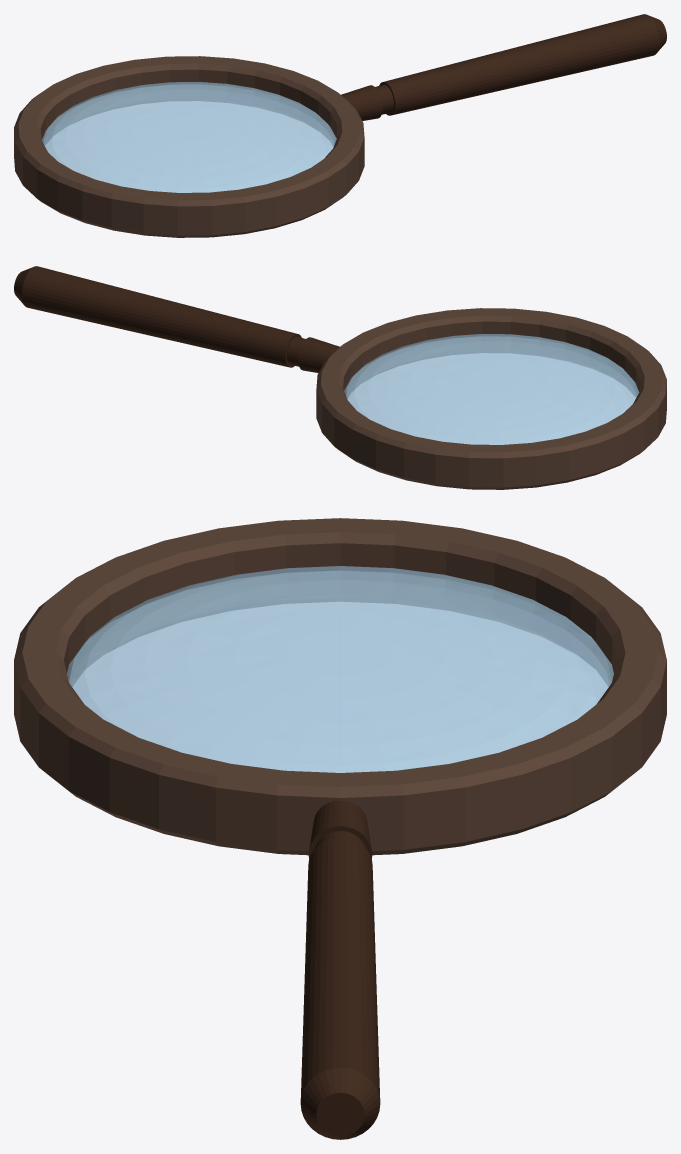
File: magnifying_glass.glb
3 views of the same model, one above another, from view 1: azimuth 30°, elevation 25°; view 2: azimuth 150°, elevation 25°; view 3: azimuth 270°, elevation 25° (orthographic). The views are drawn at different scales.
Parts seen in each view (by area): view 1: Circle, Sphere, Cylinder; view 2: Circle, Sphere, Cylinder; view 3: Circle, Sphere, Cylinder.
Boxes of the visible parts, left/top/right/bottom form: Circle: left=14, top=56, right=364, bottom=237; Sphere: left=41, top=82, right=336, bottom=192; Cylinder: left=341, top=14, right=666, bottom=120; Circle: left=316, top=308, right=666, bottom=489; Sphere: left=344, top=334, right=639, bottom=444; Cylinder: left=14, top=266, right=339, bottom=372; Circle: left=14, top=518, right=666, bottom=855; Sphere: left=67, top=566, right=613, bottom=772; Cylinder: left=300, top=800, right=380, bottom=1139.
Bounding box in the file's own units: 4.84 × 0.288 × 2.36.
